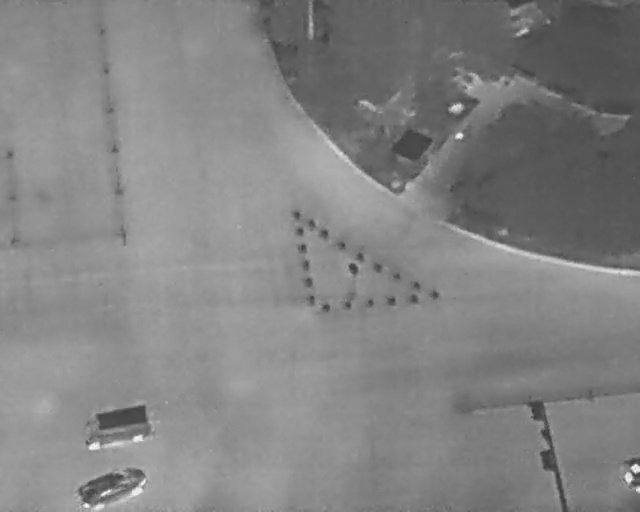Car: (72, 459, 150, 511)
OtherVehicle: (78, 401, 156, 453)
